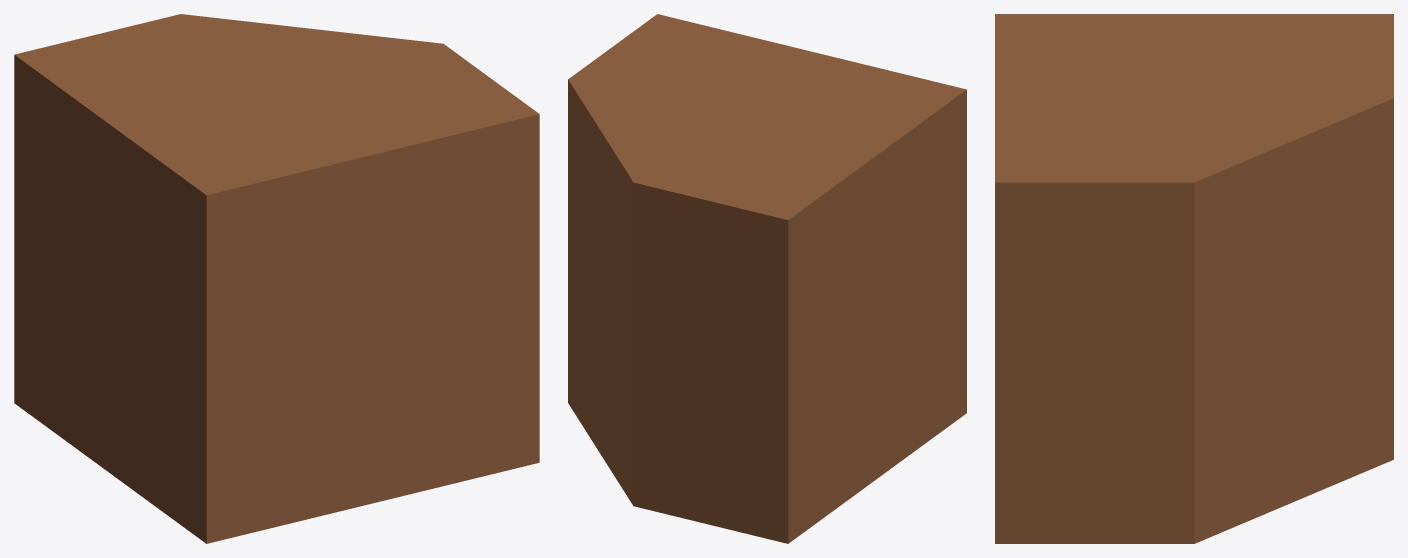
Rendered from blockCornerSmall.glb.
The picture shows the model from 3 angles, left to right: view 1: azimuth 30°, elevation 25°; view 2: azimuth 150°, elevation 25°; view 3: azimuth 270°, elevation 25°; orthographic projection. The views are drawn at different scales.
Parts seen in each view (by area): view 1: blockCornerSmall; view 2: blockCornerSmall; view 3: blockCornerSmall.
Boxes of the visible parts, x1=… form: blockCornerSmall: x1=14, y1=14, x2=539, y2=543; blockCornerSmall: x1=568, y1=14, x2=966, y2=543; blockCornerSmall: x1=995, y1=14, x2=1393, y2=543.
Bounding box in the file's own units: 1 × 1 × 1.
